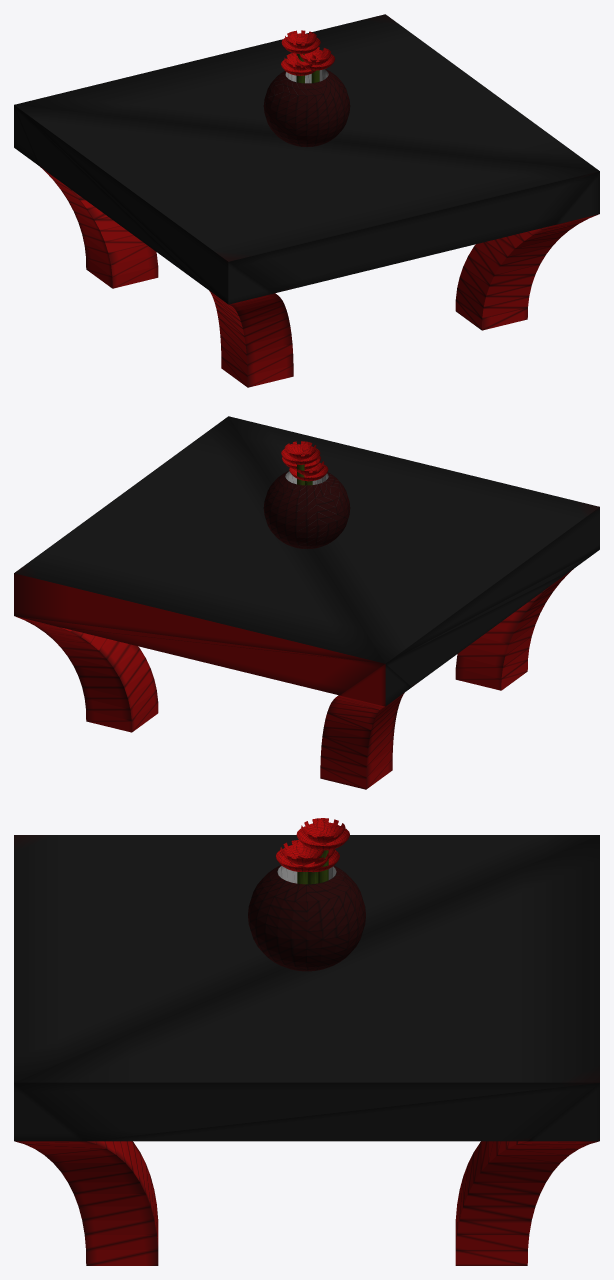
3 views of the same model, one above another, from view 1: azimuth 30°, elevation 25°; view 2: azimuth 150°, elevation 25°; view 3: azimuth 270°, elevation 25° (orthographic). The views are drawn at different scales.
Visible parts, largest first — view 1: world; view 2: world; view 3: world.
Part boxes in pixels (bbox=[...]): world: bbox=[14, 14, 599, 387]; world: bbox=[14, 416, 599, 789]; world: bbox=[14, 818, 599, 1265].
Size of the model in its own units: 1.41 by 0.914 by 1.41.
Materials: 1 (1 with a texture image).
